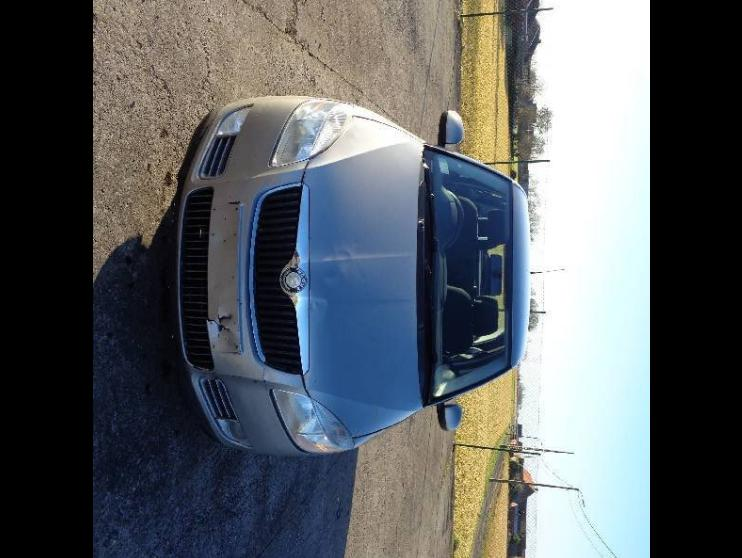Broken part: (205, 289, 238, 353)
Dent: (322, 240, 372, 289), (308, 290, 328, 324)
Missing part: (205, 206, 239, 352)
Scratch: (261, 363, 268, 386)
